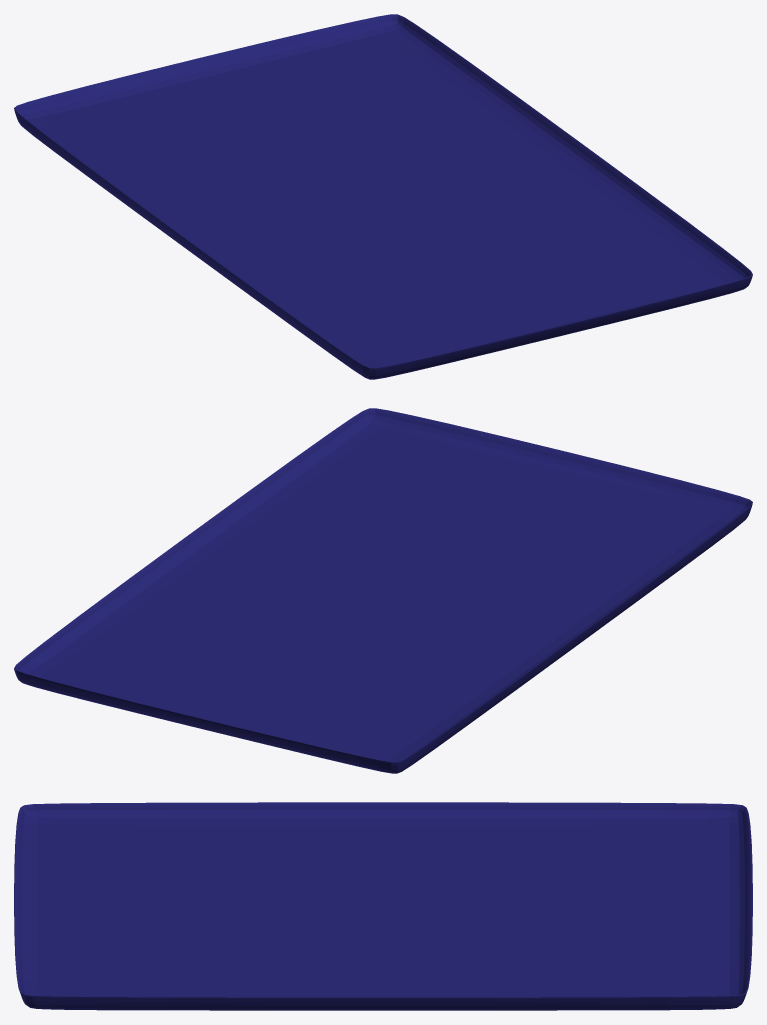
File: Tray_00v2.fbx
3 renders of one model, top to bottom at view 1: azimuth 30°, elevation 25°; view 2: azimuth 150°, elevation 25°; view 3: azimuth 270°, elevation 25°, orthographic.
Parts seen in each view (by area): view 1: Tray; view 2: Tray; view 3: Tray.
Boxes of the visible parts, x1,y1,x2,y2 form: Tray: [14, 14, 752, 379]; Tray: [14, 408, 752, 773]; Tray: [14, 802, 752, 1010].
Bounding box in the file's own units: 24.92 × 1.19 × 39.87.
